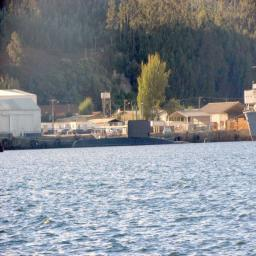submarine: (74, 117, 194, 148)
